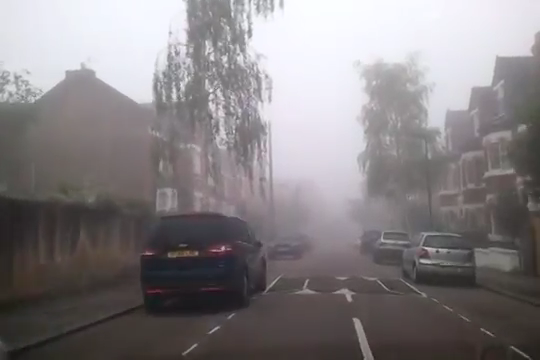car: (137, 212, 269, 315), (401, 230, 477, 285), (373, 227, 414, 267), (265, 232, 302, 259), (358, 230, 384, 255)
